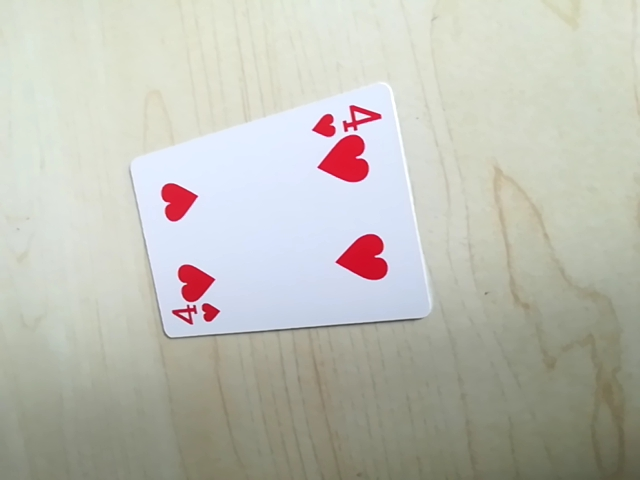hx 4: (309, 96, 389, 137), (162, 298, 226, 332)
